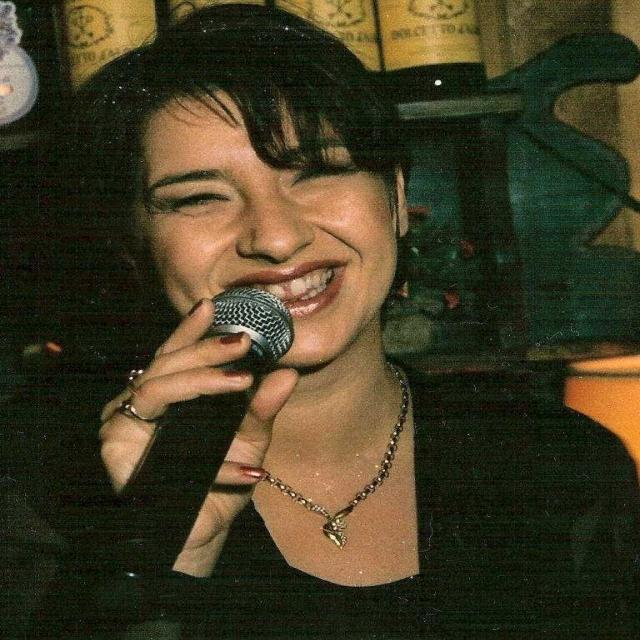microphone: (83, 287, 302, 622)
